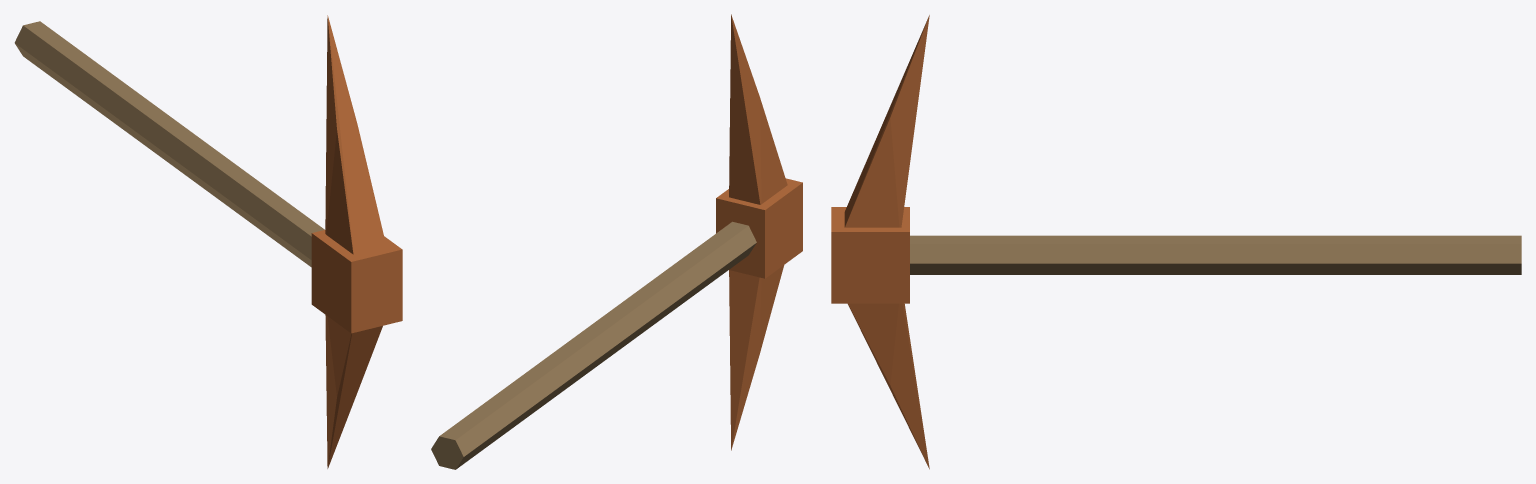
The model's file is Pickaxe.fbx.
The picture shows the model from 3 angles, left to right: view 1: azimuth 30°, elevation 25°; view 2: azimuth 150°, elevation 25°; view 3: azimuth 270°, elevation 25°; orthographic projection. The views are drawn at different scales.
Visible parts, largest first — view 1: Pickaxe; view 2: Pickaxe; view 3: Pickaxe.
Part boxes in pixels (bbox=[...]): Pickaxe: bbox=[14, 15, 402, 468]; Pickaxe: bbox=[431, 14, 802, 469]; Pickaxe: bbox=[831, 15, 1521, 469].
Bounding box in the file's own units: 0.06 × 0.51 × 0.7.
